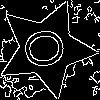O: (21, 23, 76, 72)
